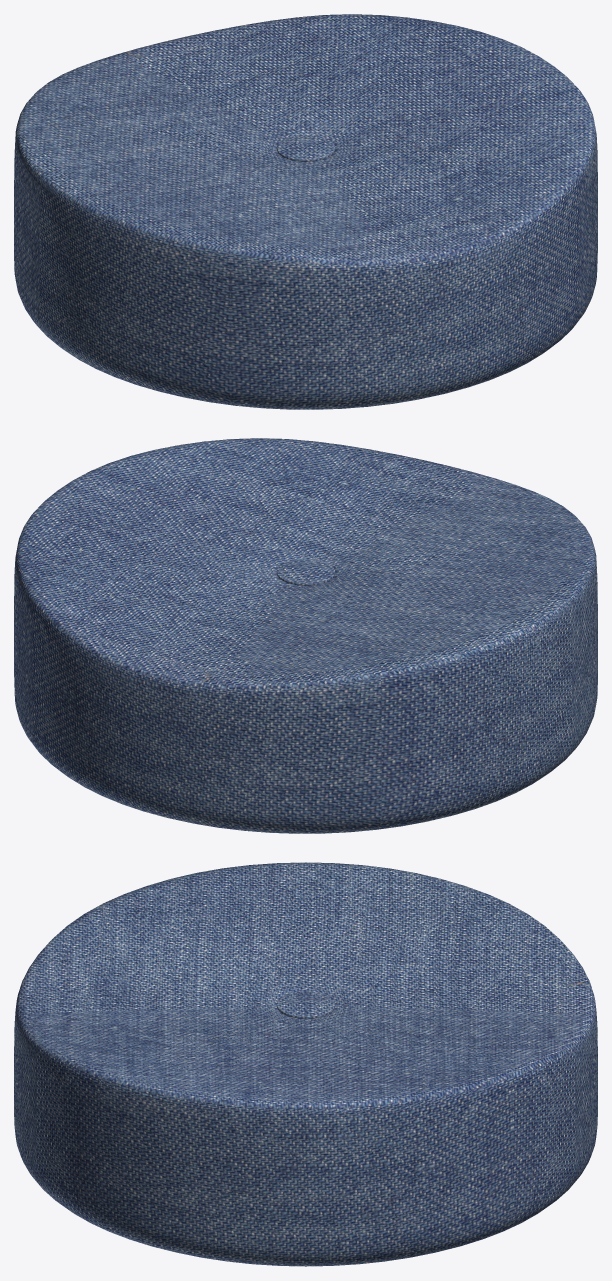
File: OtomanoGrande_Roof.fbx
3 views of the same model, one above another, from view 1: azimuth 30°, elevation 25°; view 2: azimuth 150°, elevation 25°; view 3: azimuth 270°, elevation 25° (orthographic).
Visible parts, largest first — view 1: OtomanoGrande; view 2: OtomanoGrande; view 3: OtomanoGrande.
Boxes of the visible parts, x1,y1,x2,y2 form: OtomanoGrande: [14, 14, 597, 409]; OtomanoGrande: [14, 438, 597, 833]; OtomanoGrande: [14, 862, 597, 1266].
Size of the model in its own units: 117 by 40.49 by 117.
